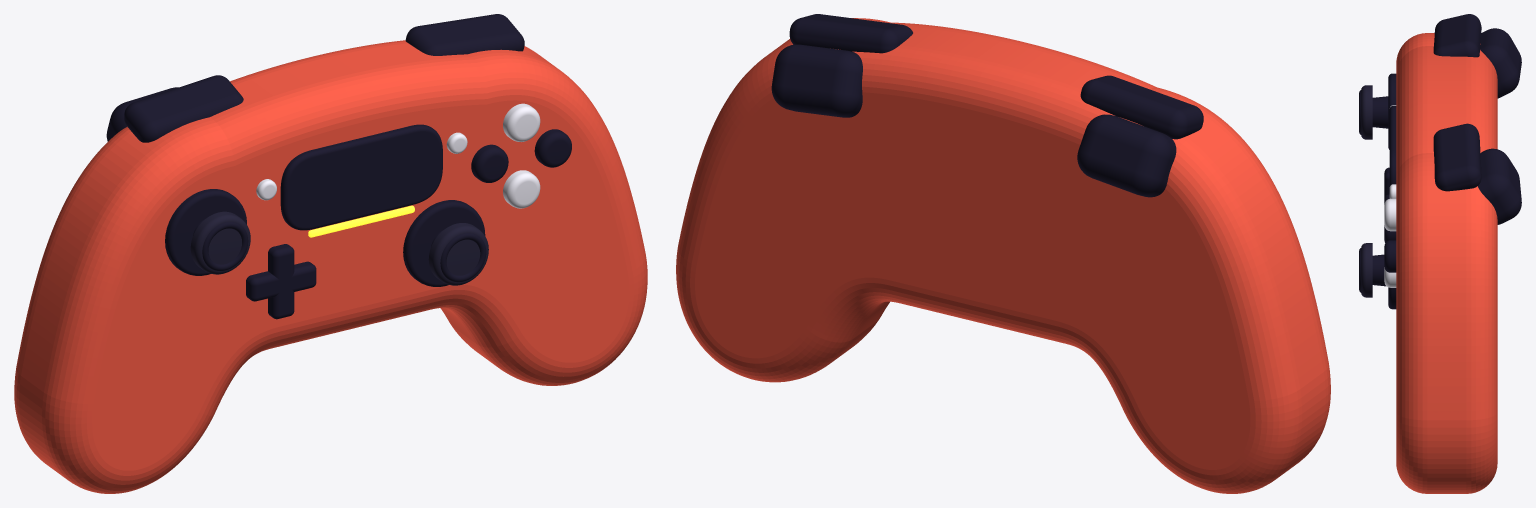
Rendered from mando-inalambrico.glb.
The picture shows the model from 3 angles, left to right: view 1: azimuth 30°, elevation 25°; view 2: azimuth 150°, elevation 25°; view 3: azimuth 270°, elevation 25°; orthographic projection. The views are drawn at different scales.
Size of the model in its own units: 4.54 by 2.64 by 1.25.
